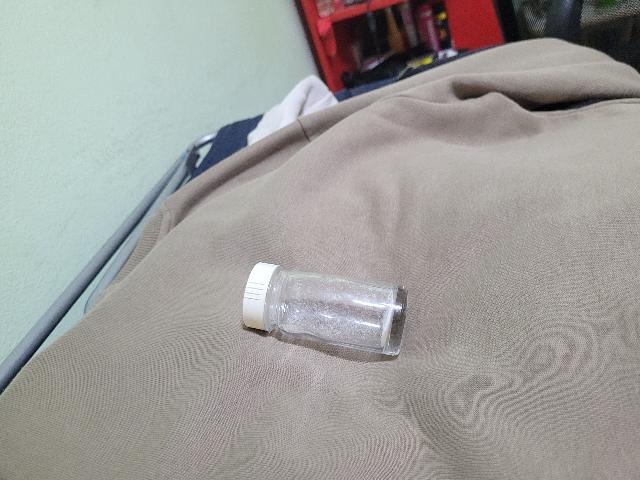Cam: (270, 258, 414, 360)
Plastik: (233, 250, 283, 334)
